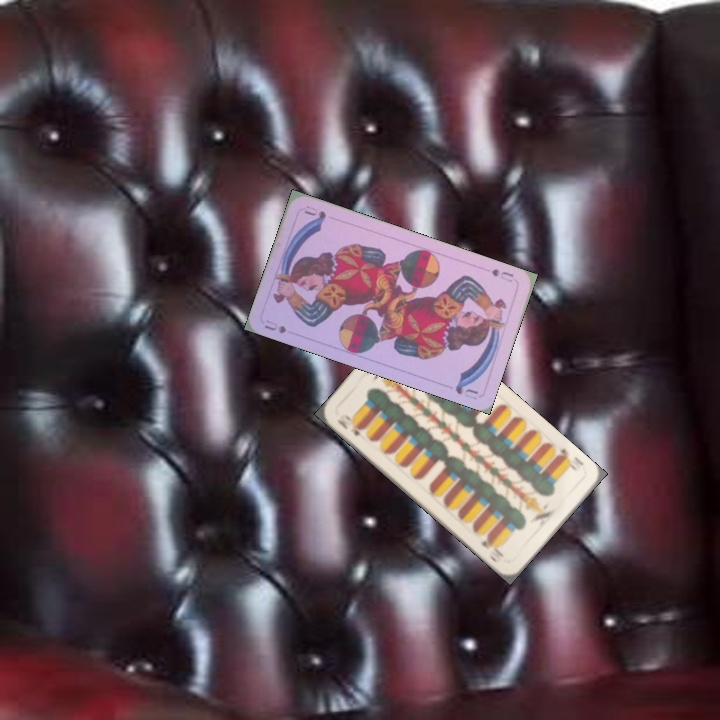E10: (333, 410, 365, 439), (553, 444, 579, 474)
SU: (260, 315, 289, 336), (487, 264, 516, 285)
